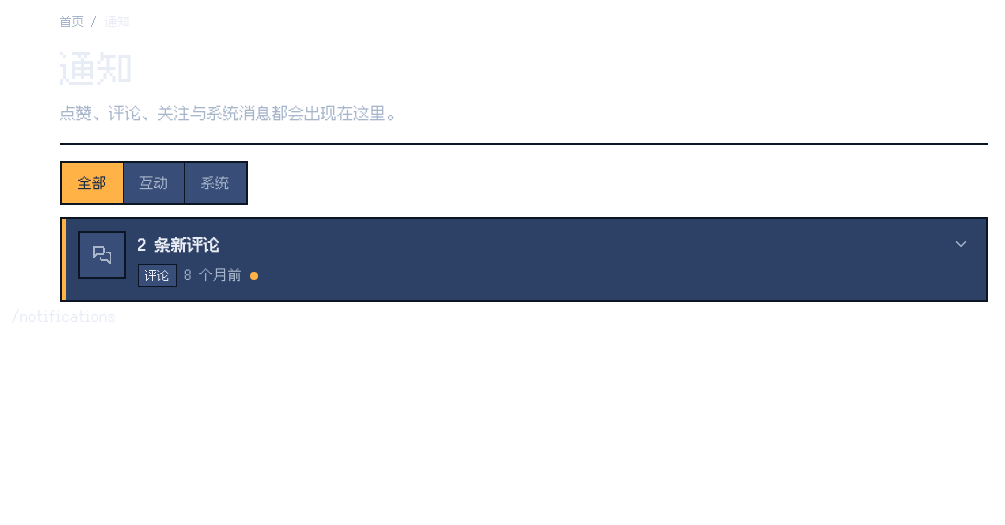
评论折叠 › 展开后把组内未读全部标记已读，且明细可见
Click the button "2 条新评论 评论 8 个月前". click: [102, 255]
box: [78,231,970,288]
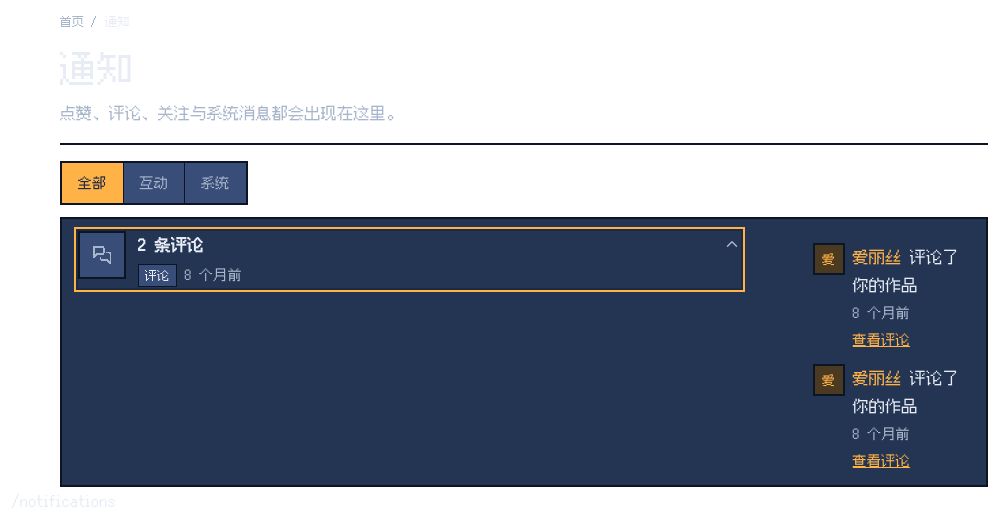
expect the list with class "g-notification-bundle-items" is shown: met, box [813,243,959,470]
